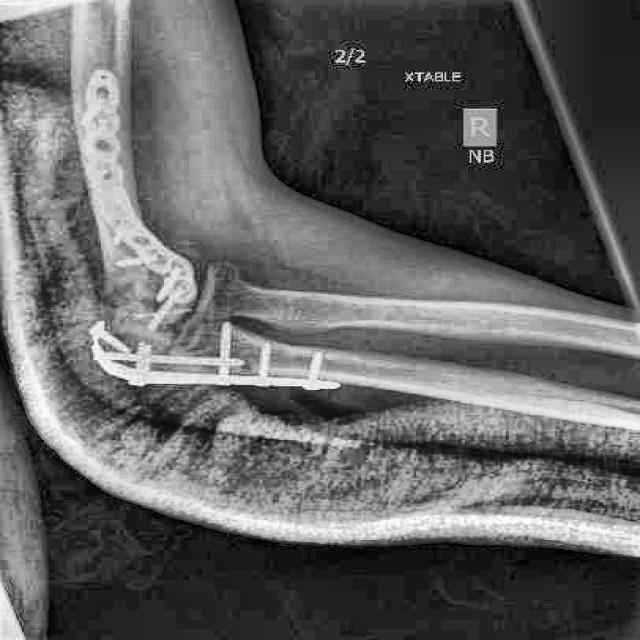elbow positive: (146, 320, 210, 379)
